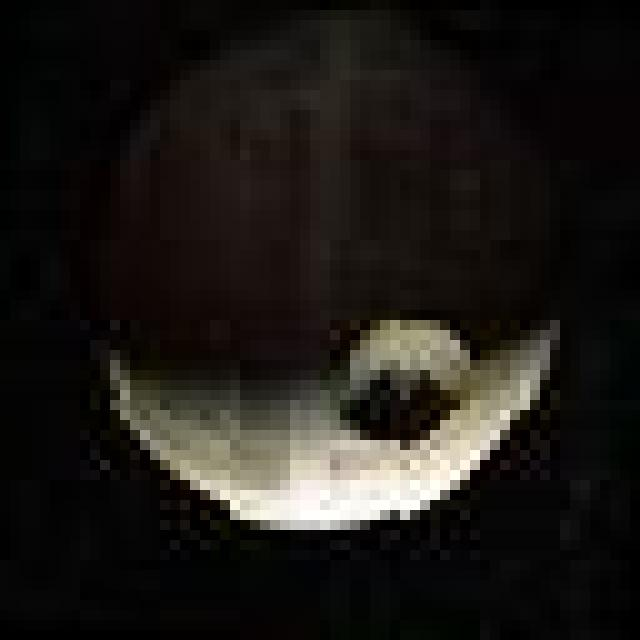Death Star: (75, 11, 573, 533)
